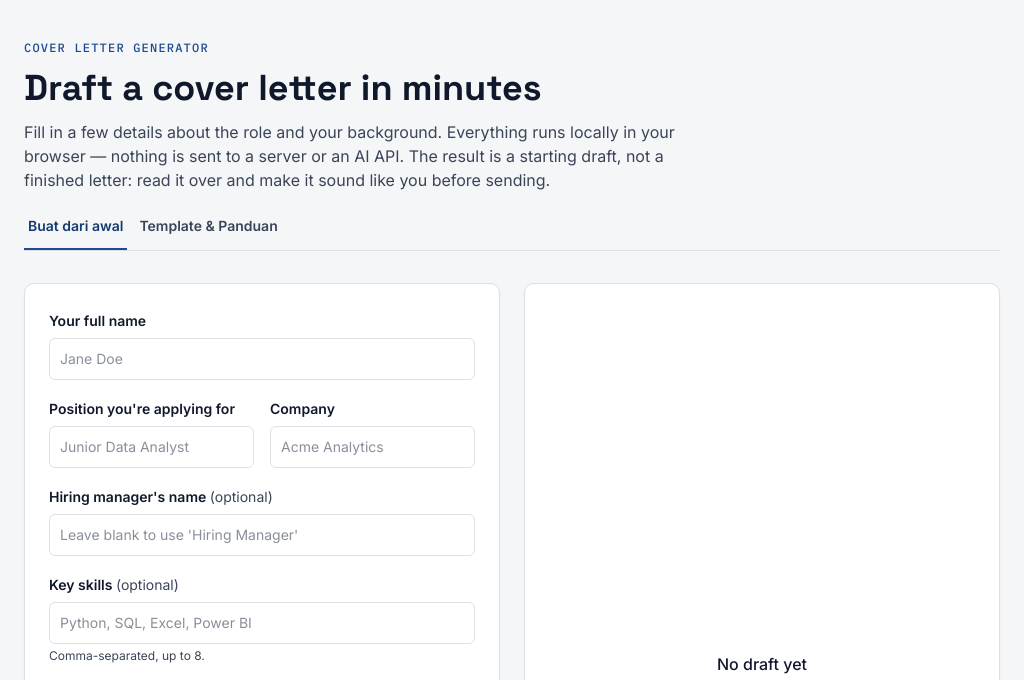
CoverLetter — Templates & Guide tab › expands the structure guide to show all 8 steps
Step 1. Click the button "Template & Panduan" → (209, 233), box [135,216,282,250]
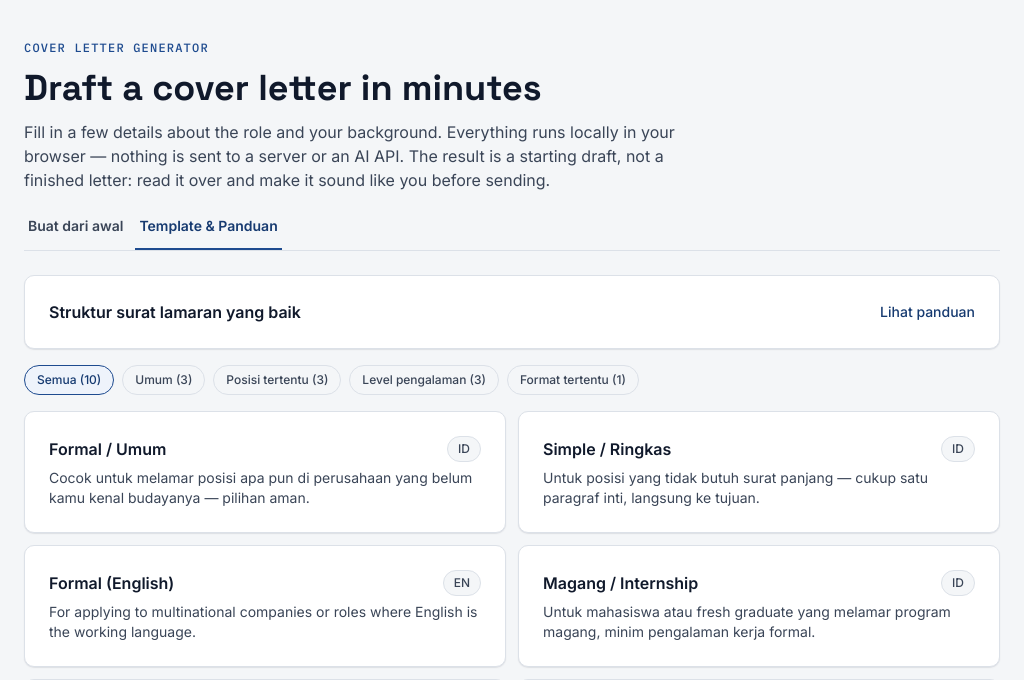
Step 2. Click the button "Struktur surat lamaran yang baik Lihat panduan" → (175, 312), box [49,300,975,324]
(page scrolled)
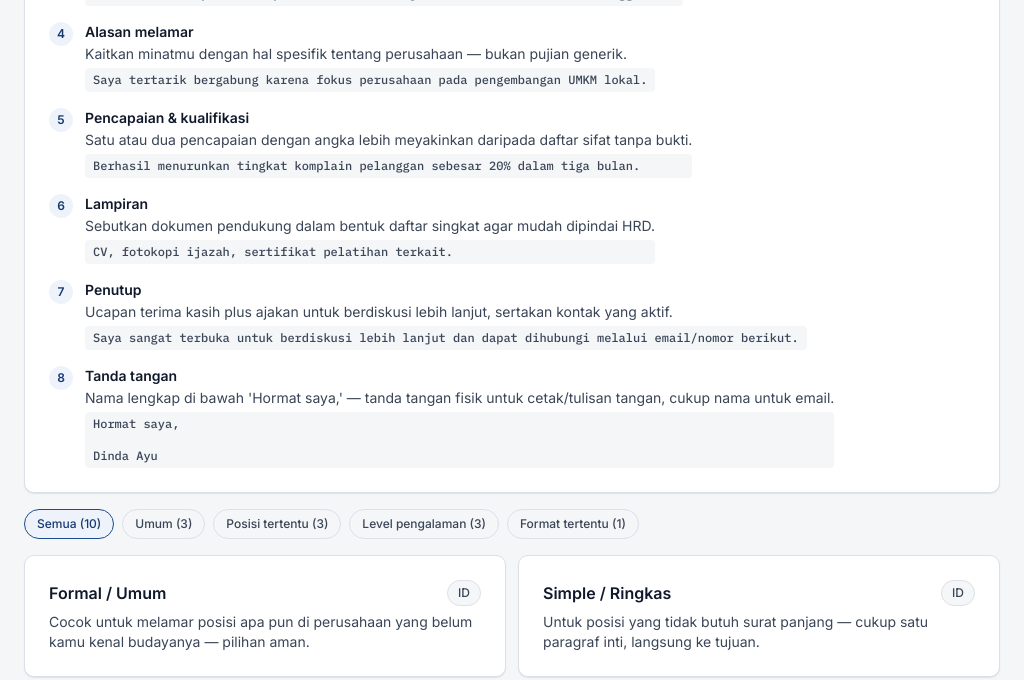
Check: the text "Tanda tangan" is shown, box [85,367,177,384]
